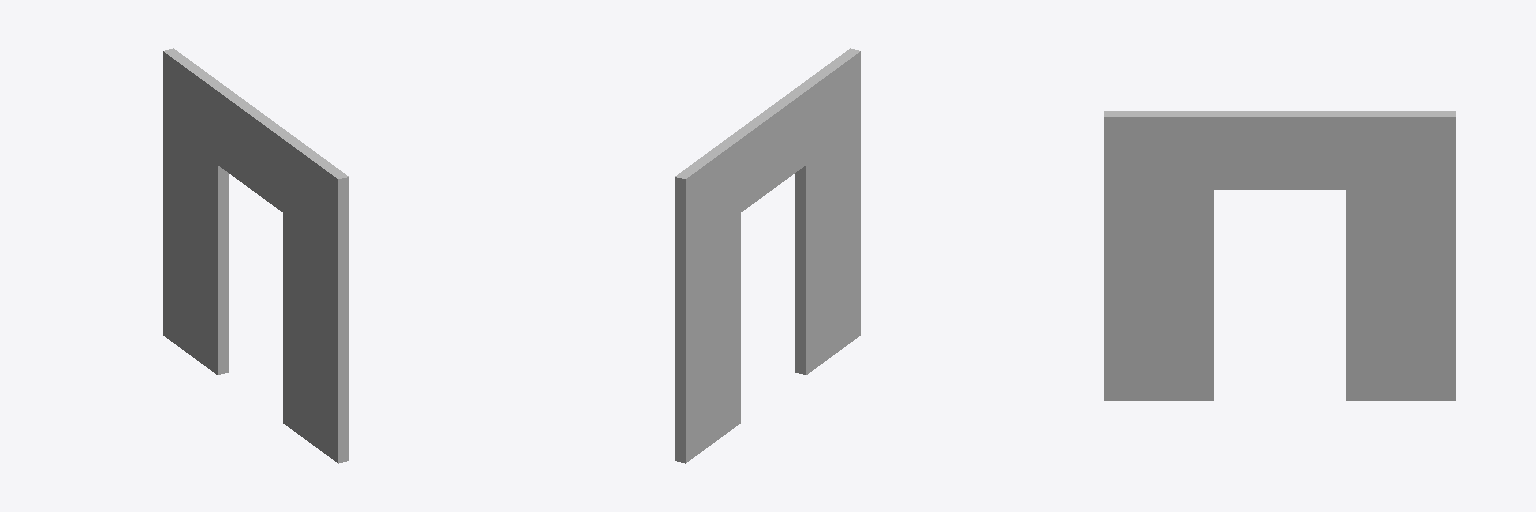
The model's file is Room_W_00b_S.obj.
3 views of the same model, side by side, from view 1: azimuth 30°, elevation 25°; view 2: azimuth 150°, elevation 25°; view 3: azimuth 270°, elevation 25° (orthographic).
Visible parts, largest first — view 1: Room_W_00b_S; view 2: Room_W_00b_S; view 3: Room_W_00b_S.
Part boxes in pixels (x1,y1,x2,y2): Room_W_00b_S: (163,48,348,463); Room_W_00b_S: (675,48,860,463); Room_W_00b_S: (1104,111,1455,400).
Size of the model in its own units: 0.1 by 2.5 by 2.8.